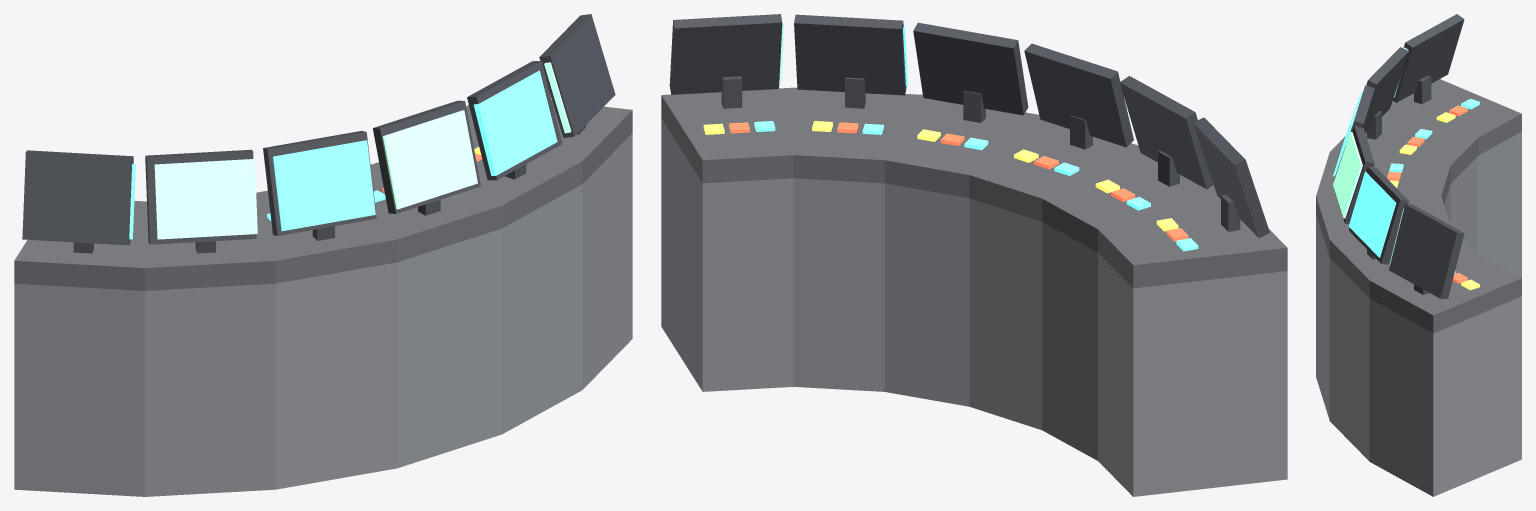
File: SM_Console_Curved.glb
The picture shows the model from 3 angles, left to right: view 1: azimuth 30°, elevation 25°; view 2: azimuth 150°, elevation 25°; view 3: azimuth 270°, elevation 25°; orthographic projection. The views are drawn at different scales.
Visible parts, largest first — view 1: SM_Console_Curved; view 2: SM_Console_Curved; view 3: SM_Console_Curved.
Boxes of the visible parts, left/top/right/bottom form: SM_Console_Curved: left=14, top=14, right=632, bottom=496; SM_Console_Curved: left=661, top=14, right=1287, bottom=496; SM_Console_Curved: left=1316, top=14, right=1521, bottom=496.
Bounding box in the file's own units: 2.26 × 1.12 × 0.8222.
